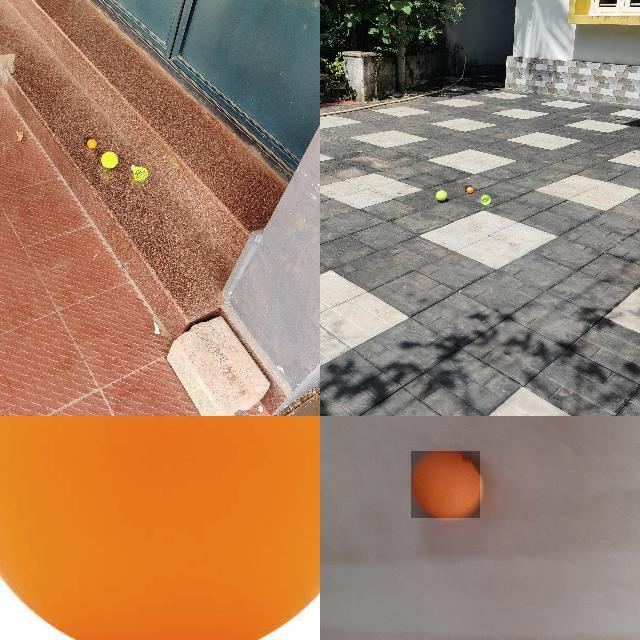ping-pong-ball: (0, 416, 319, 639), (411, 451, 482, 519), (84, 137, 94, 147), (465, 185, 473, 193)
